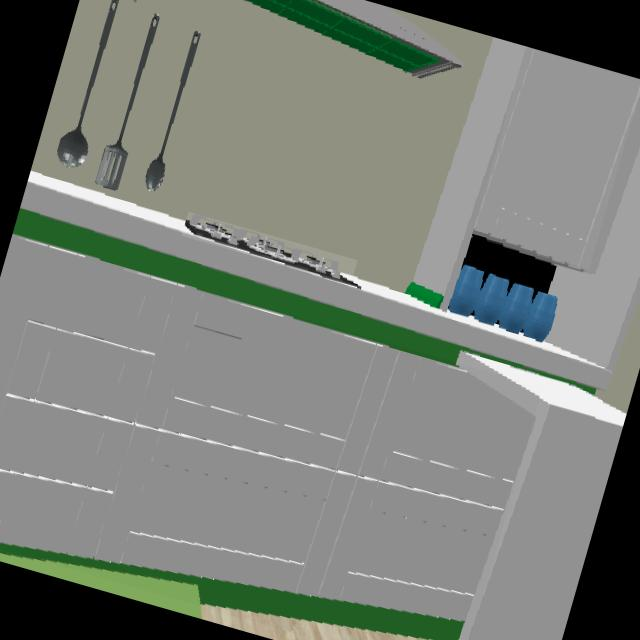cabinet: (0, 235, 532, 622), (474, 49, 640, 266)
countertop: (12, 171, 609, 394)
stove: (185, 216, 349, 284)
